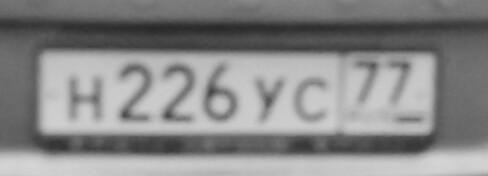license-plateSW: (36, 49, 439, 139)
